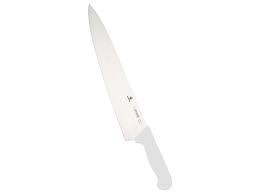Knife: (86, 2, 172, 190)
